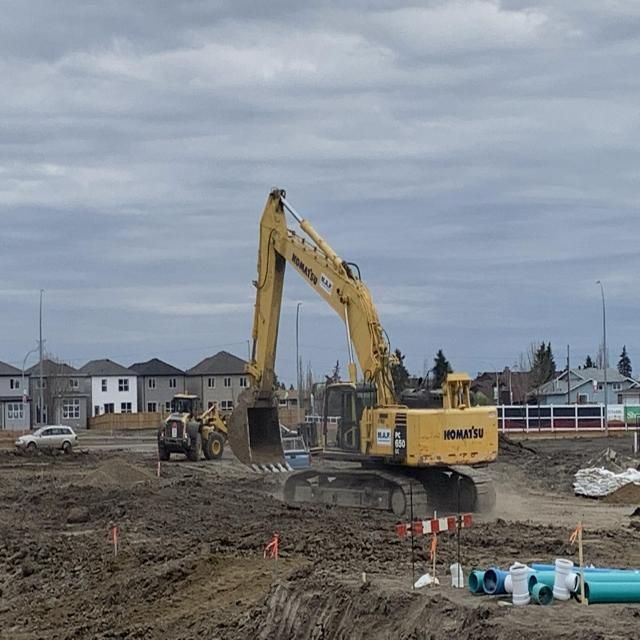Excavator: (236, 186, 502, 538)
Loader: (156, 385, 225, 465)
